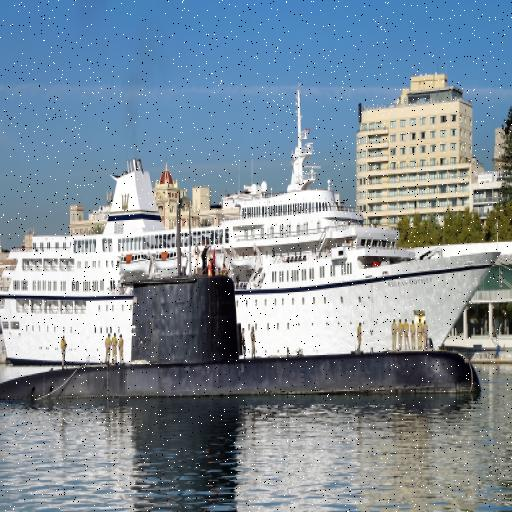submarine: (1, 275, 482, 397)
